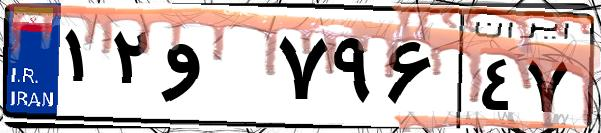1: (57, 26, 110, 100)
2: (110, 28, 158, 98)
4: (475, 38, 525, 113)
6: (385, 28, 445, 110)
7: (270, 28, 330, 110), (525, 38, 570, 115)
9: (330, 28, 385, 110)
و: (158, 20, 270, 120)
